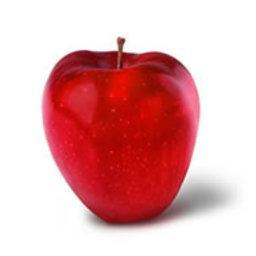apple: (41, 47, 200, 227)
